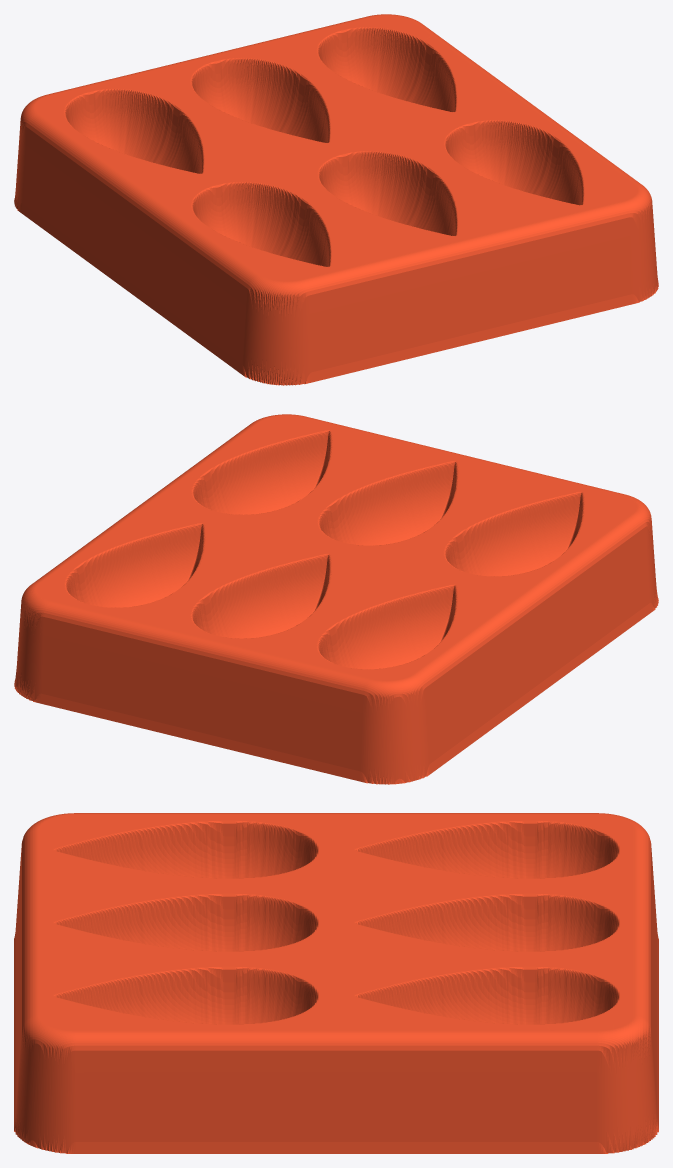
Rendered from mold.glb.
3 views of the same model, one above another, from view 1: azimuth 30°, elevation 25°; view 2: azimuth 150°, elevation 25°; view 3: azimuth 270°, elevation 25° (orthographic). The views are drawn at different scales.
Visible parts, largest first — view 1: geometry_0; view 2: geometry_0; view 3: geometry_0.
Part boxes in pixels (x1,y1,x2,y2): geometry_0: (14, 14, 658, 385); geometry_0: (14, 414, 658, 784); geometry_0: (14, 813, 658, 1153).
Size of the model in its own units: 0.0824 by 0.0182 by 0.0947.
